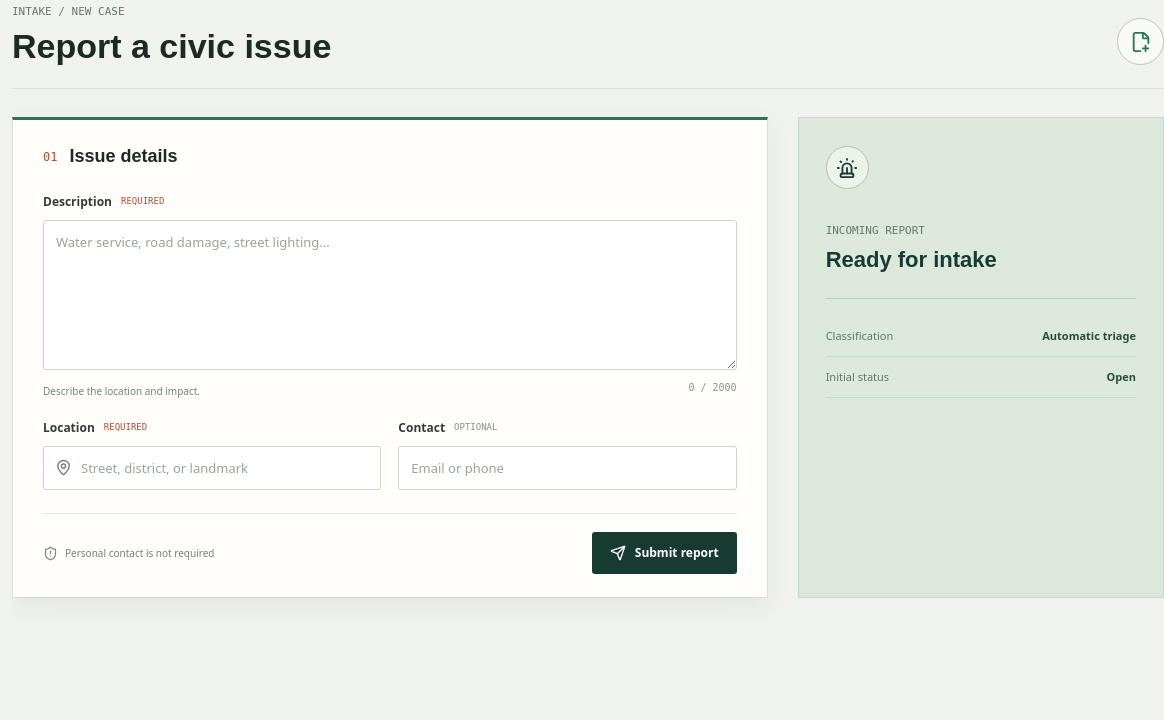
Test: CivicPulse views › shows the returned triage result after a successful submission
Type "Large pothole beside the public school gate" into the text box labelled "Description Required".
click(390, 295); type("Large pothole beside the public school gate")  # box [43,220,737,370]
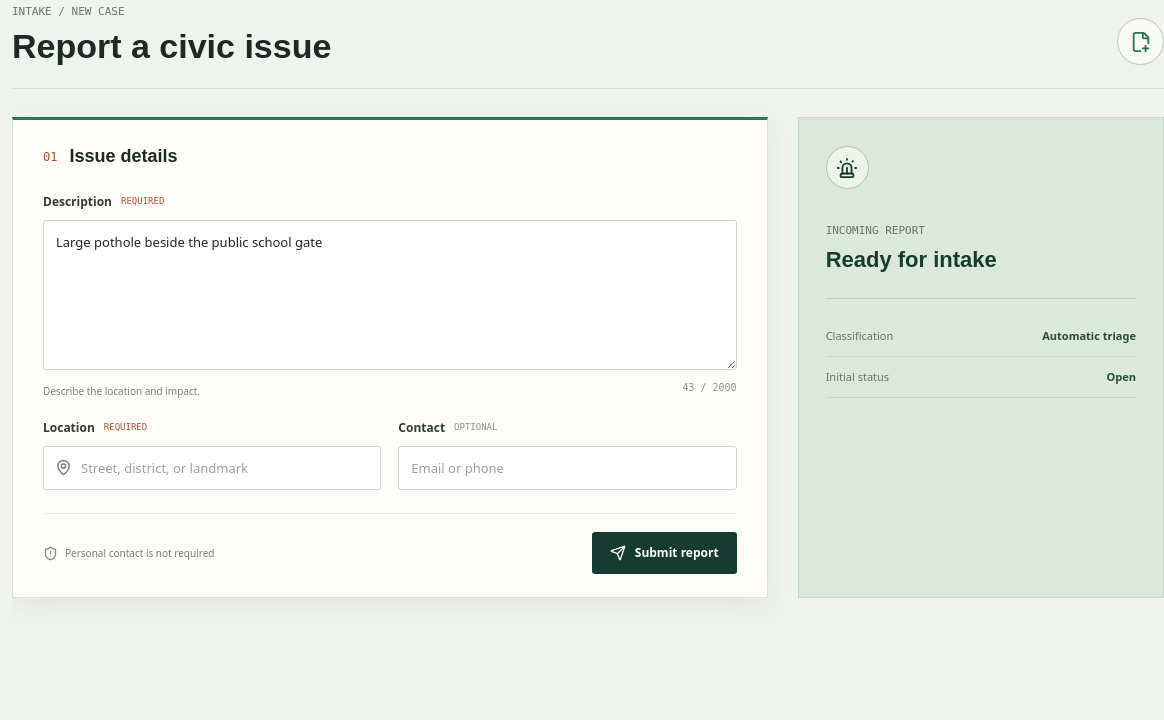
Type "School Road, Ward 4" into the field labelled "Location Required".
click(212, 468); type("School Road, Ward 4")  # box [43,446,381,490]
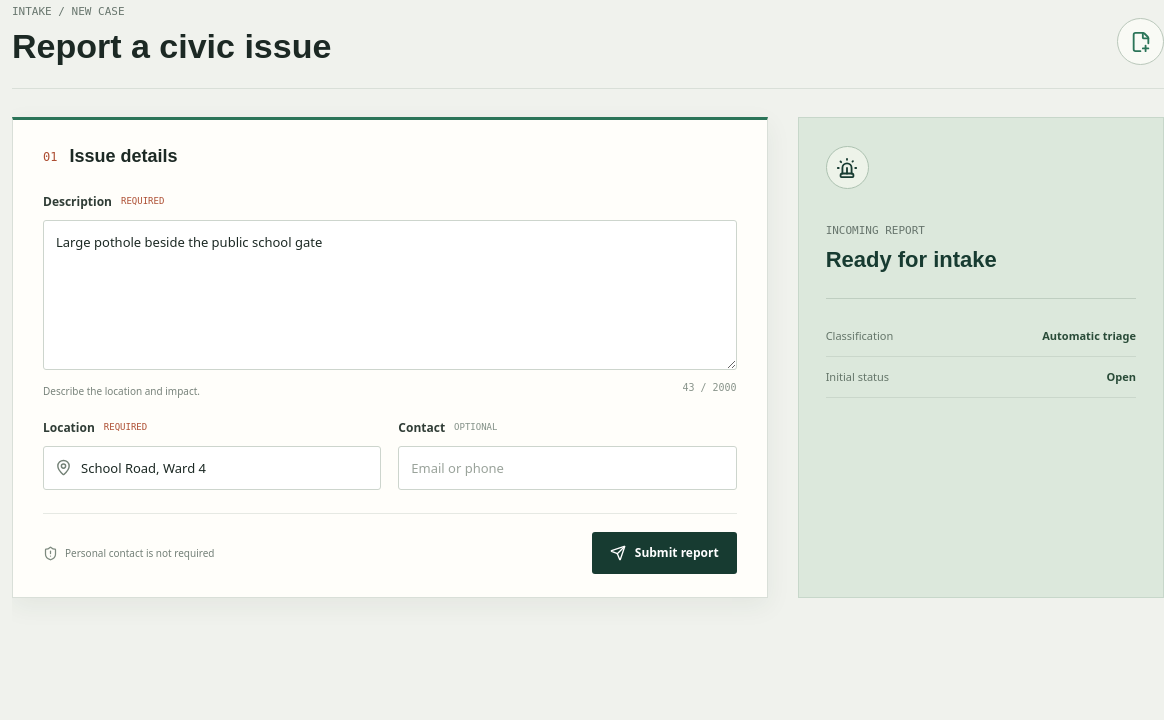
Click the button "Submit report".
click(664, 553)  # box [592,532,737,574]
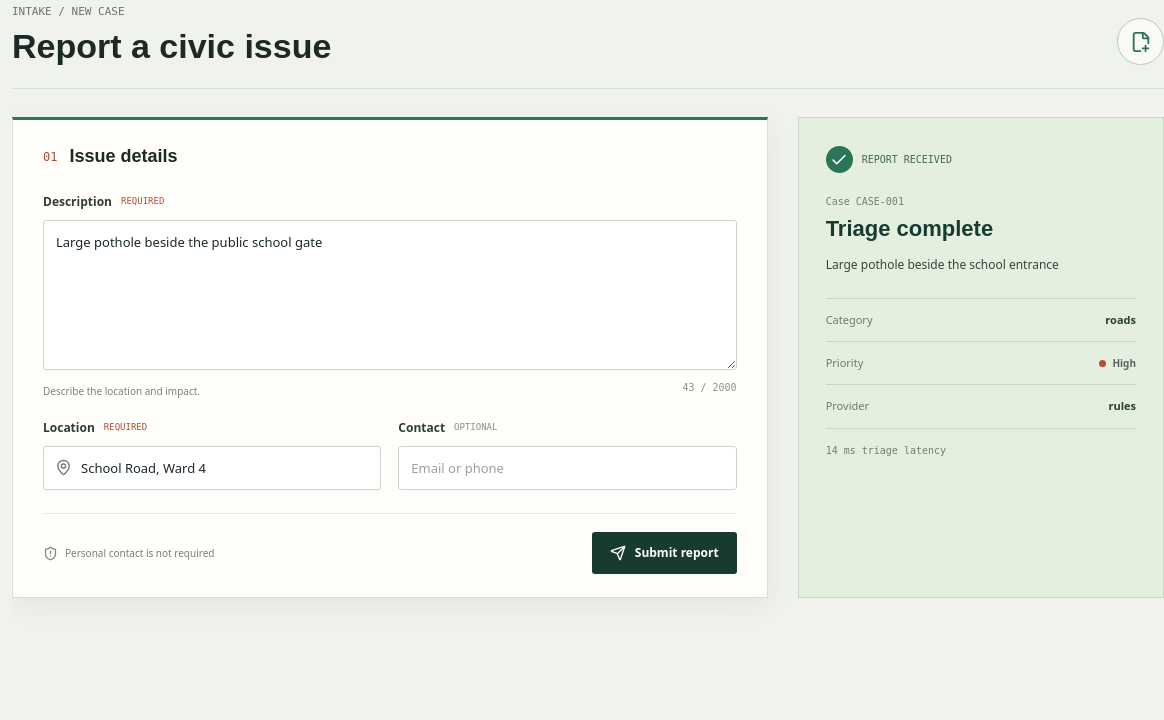
Now the heading "Triage complete" is shown, box [826,216,993,241]
Now the text "roads" is shown, box [1105,310,1136,330]
Now the text "rules" is shown, box [1108,396,1136,417]
